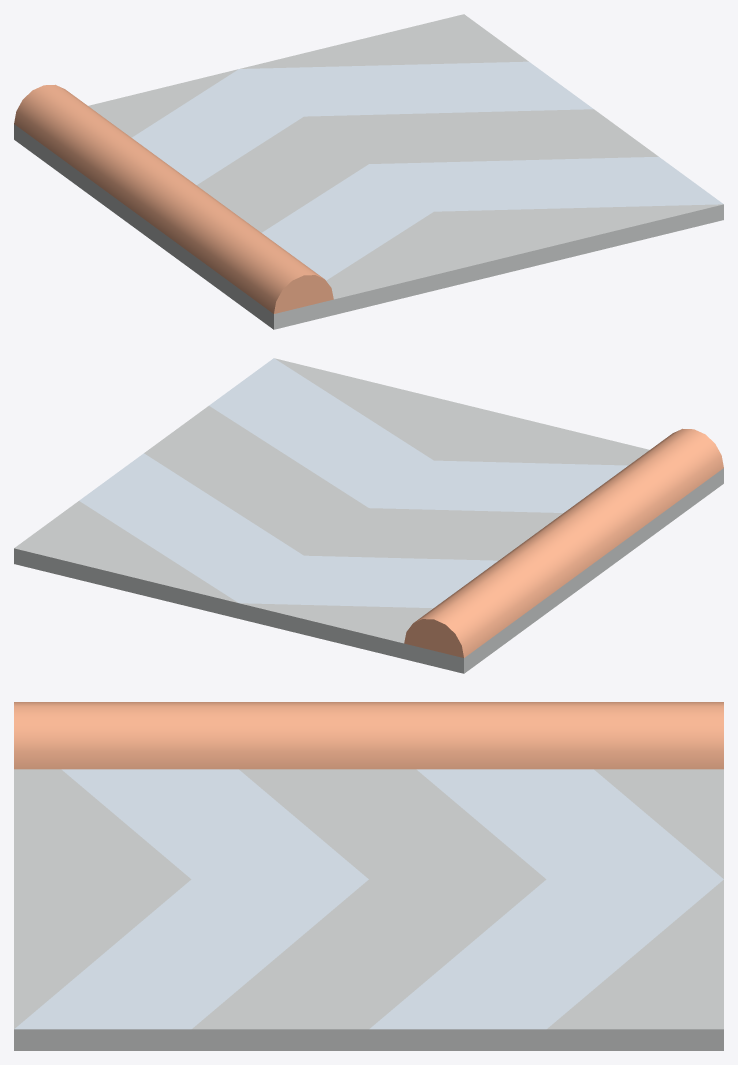
File: Path_02 (1).fbx
3 renders of one model, top to bottom at view 1: azimuth 30°, elevation 25°; view 2: azimuth 150°, elevation 25°; view 3: azimuth 270°, elevation 25°, orthographic. The views are drawn at different scales.
Visible parts, largest first — view 1: Path_02.001, Path_02.001_Sides; view 2: Path_02.001, Path_02.001_Sides; view 3: Path_02.001, Path_02.001_Sides.
Boxes of the visible parts, x1,y1,x2,y2 form: Path_02.001: [14, 14, 723, 329]; Path_02.001_Sides: [14, 84, 333, 313]; Path_02.001: [14, 358, 723, 673]; Path_02.001_Sides: [404, 428, 723, 657]; Path_02.001: [14, 769, 723, 1050]; Path_02.001_Sides: [14, 702, 723, 769].
Bounding box in the file's own units: 600 × 60 × 600.
